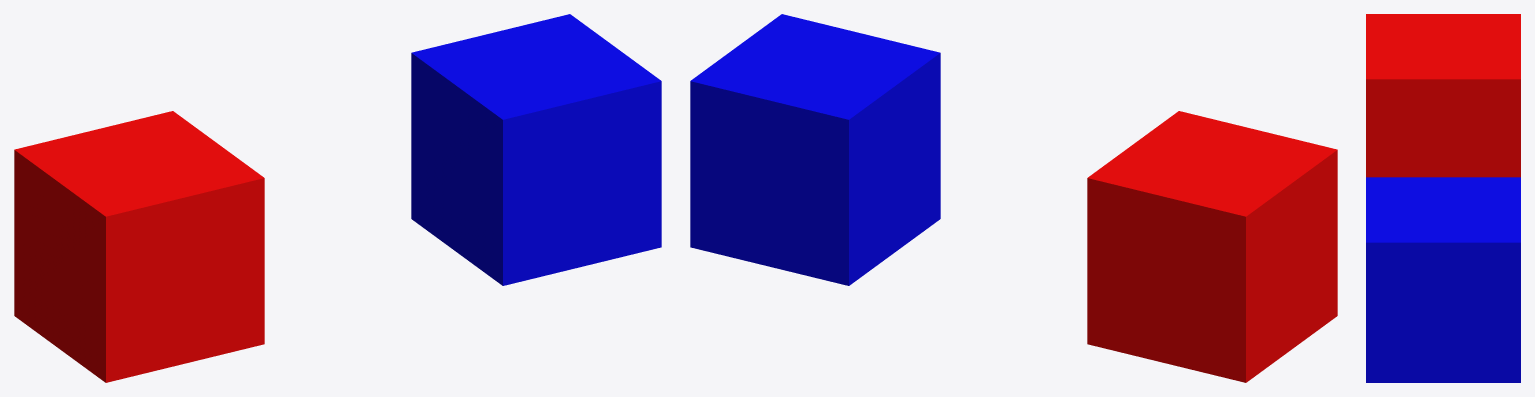
File: coloured-boxes.glb
3 views of the same model, side by side, from view 1: azimuth 30°, elevation 25°; view 2: azimuth 150°, elevation 25°; view 3: azimuth 270°, elevation 25° (orthographic). The views are drawn at different scales.
Visible parts, largest first — view 1: red-box, blue-box; view 2: red-box, blue-box; view 3: blue-box, red-box.
Boxes of the visible parts, left/top/right/bottom form: red-box: left=14, top=111, right=264, bottom=382; blue-box: left=411, top=14, right=661, bottom=285; red-box: left=1087, top=111, right=1337, bottom=382; blue-box: left=690, top=14, right=940, bottom=285; blue-box: left=1366, top=177, right=1520, bottom=382; red-box: left=1366, top=14, right=1520, bottom=177.
Size of the model in its own units: 2.8 by 0.8 by 0.8.
